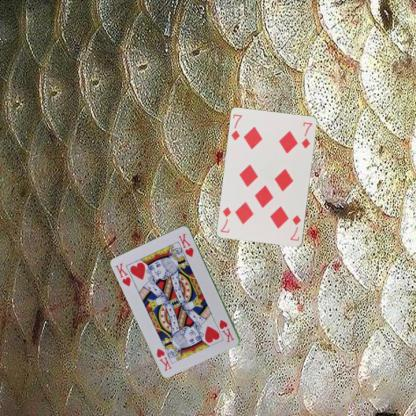7d: (229, 112, 243, 142), (288, 213, 302, 242)
Kh: (113, 260, 132, 288), (216, 317, 235, 344)
